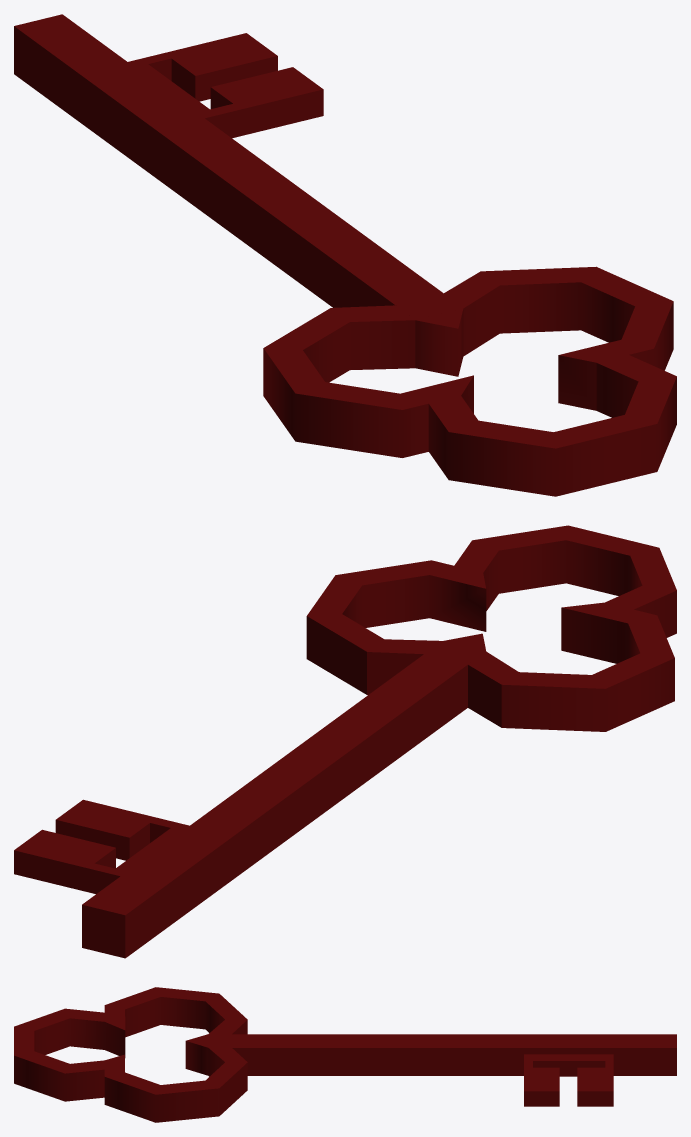
Rendered from ledgerKey.fbx.
3 views of the same model, one above another, from view 1: azimuth 30°, elevation 25°; view 2: azimuth 150°, elevation 25°; view 3: azimuth 270°, elevation 25° (orthographic). The views are drawn at different scales.
Parts seen in each view (by area): view 1: Tube003, Box001; view 2: Tube003, Box001; view 3: Box001, Tube003.
Part boxes in pixels (x1,y1,x2,y2): Tube003: (263,266,676,496); Box001: (14,14,463,319); Tube003: (306,525,676,731); Box001: (14,641,485,958); Box001: (208,1034,676,1106); Tube003: (14,987,247,1122).
Size of the model in its own units: 0.9944 by 0.1209 by 2.59.
